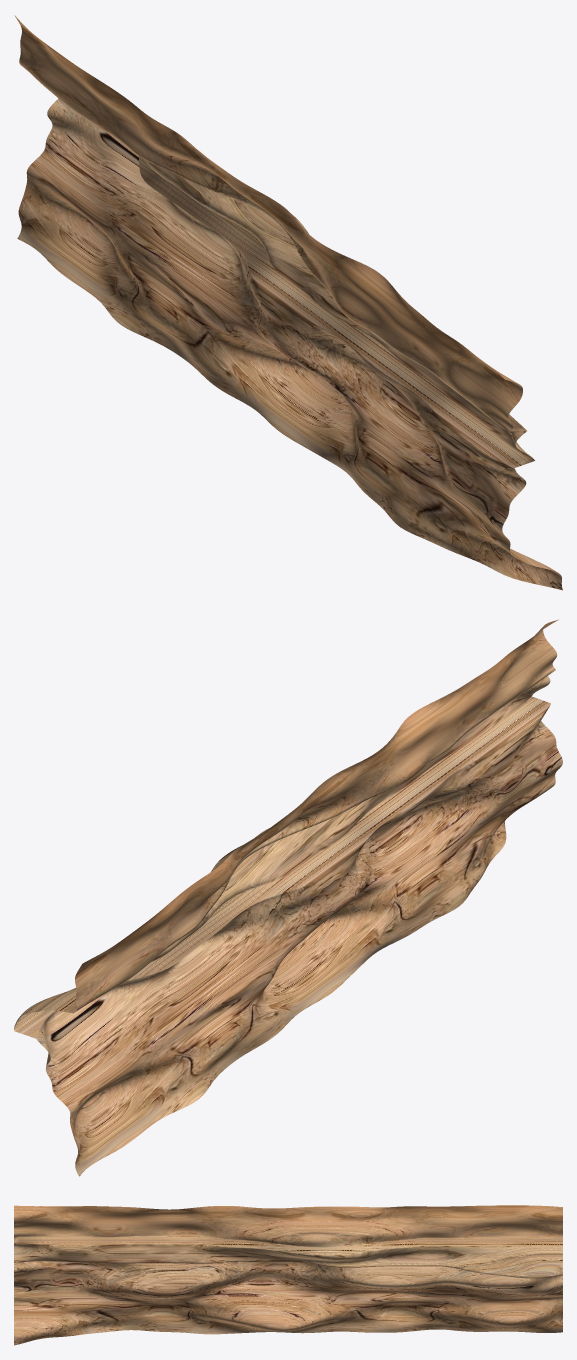
File: runtime_mesh.obj
3 views of the same model, one above another, from view 1: azimuth 30°, elevation 25°; view 2: azimuth 150°, elevation 25°; view 3: azimuth 270°, elevation 25° (orthographic). The views are drawn at different scales.
Bounding box in the file's own units: 2.12 × 5 × 20.
Materials: 1 (1 with a texture image).
